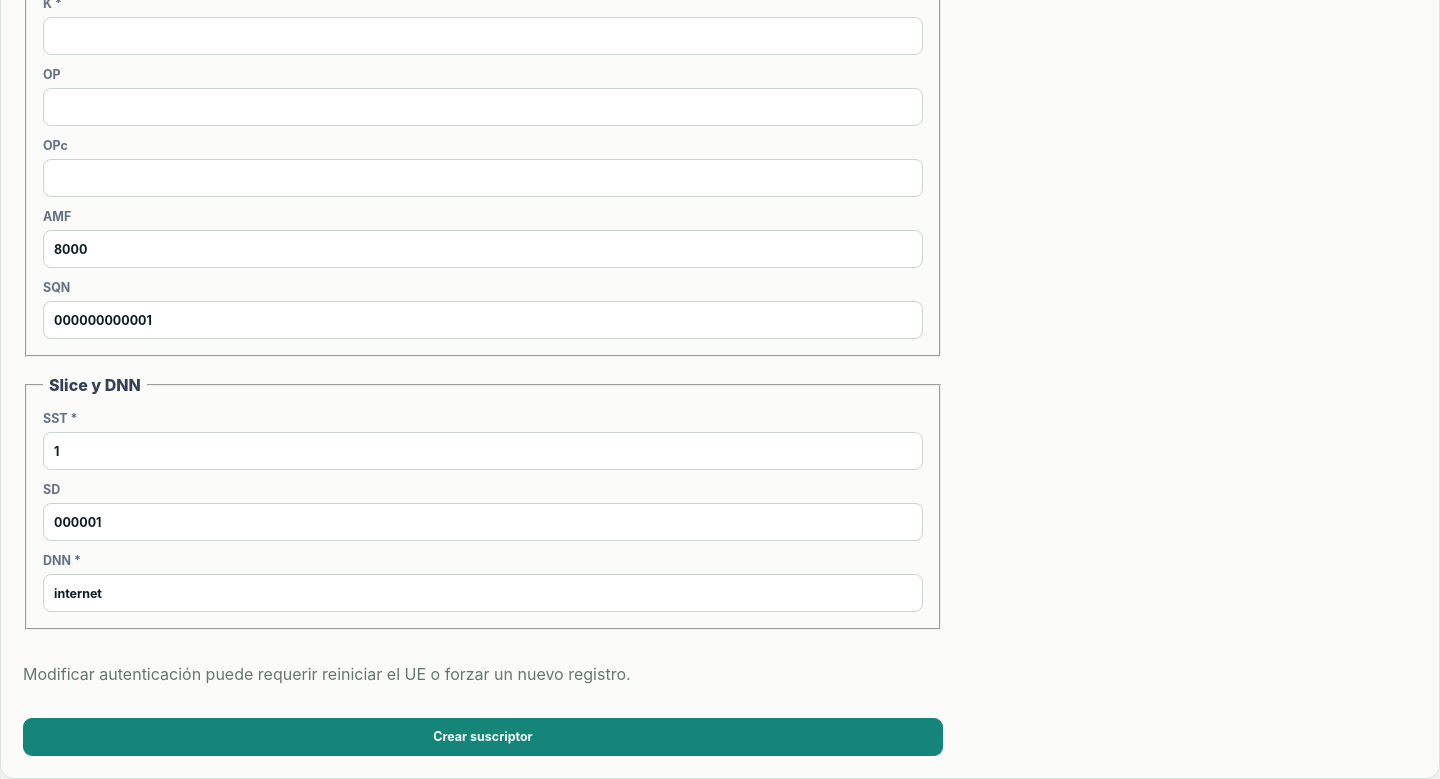
Test case: Subscriber management › validates form fields before creation
(page scrolled)
Click the button "Crear suscriptor": [483, 737] box [23, 718, 943, 756]
(page scrolled)
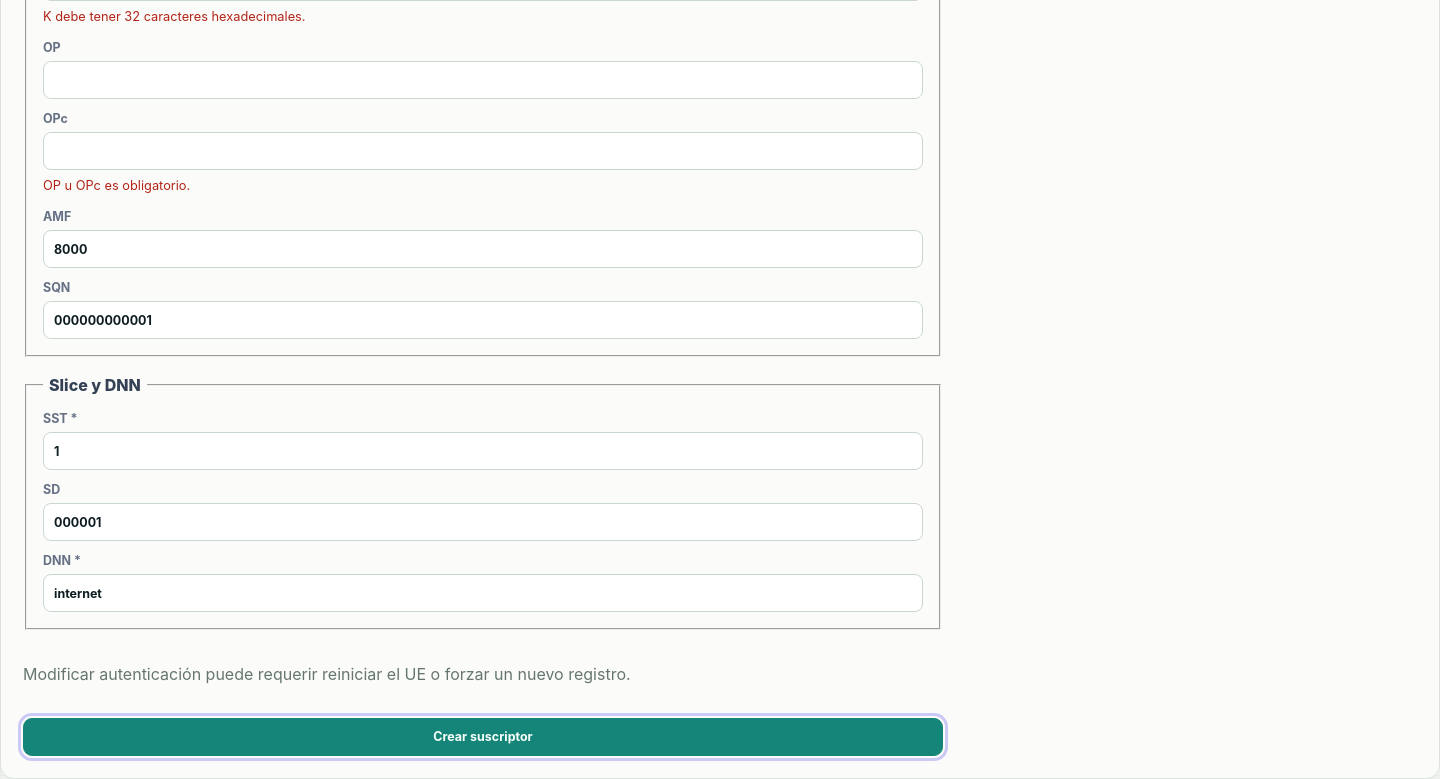
Now the text "K debe tener 32 caracteres hexadecimales." is shown, box [43, 9, 306, 24]
